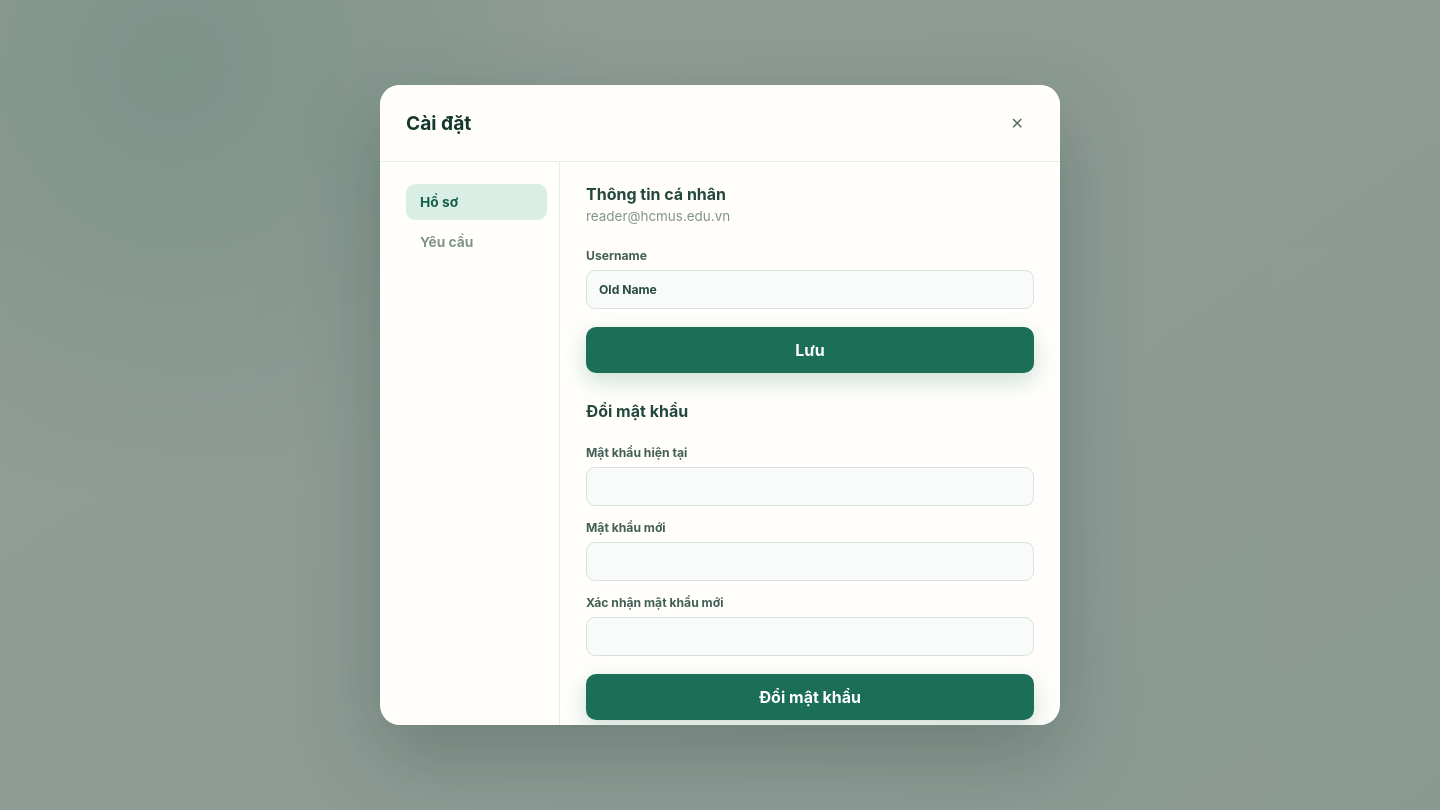
Test: SettingsModal › shows the "request to become editor" button for a reader with no pending request
The width and height of the screenshot is (1440, 810).
Expected: the field showing "Old Name" is shown, [586,270,1034,309]
Click the button "Yêu cầu". click: (476, 242)
box: [406,224,547,260]
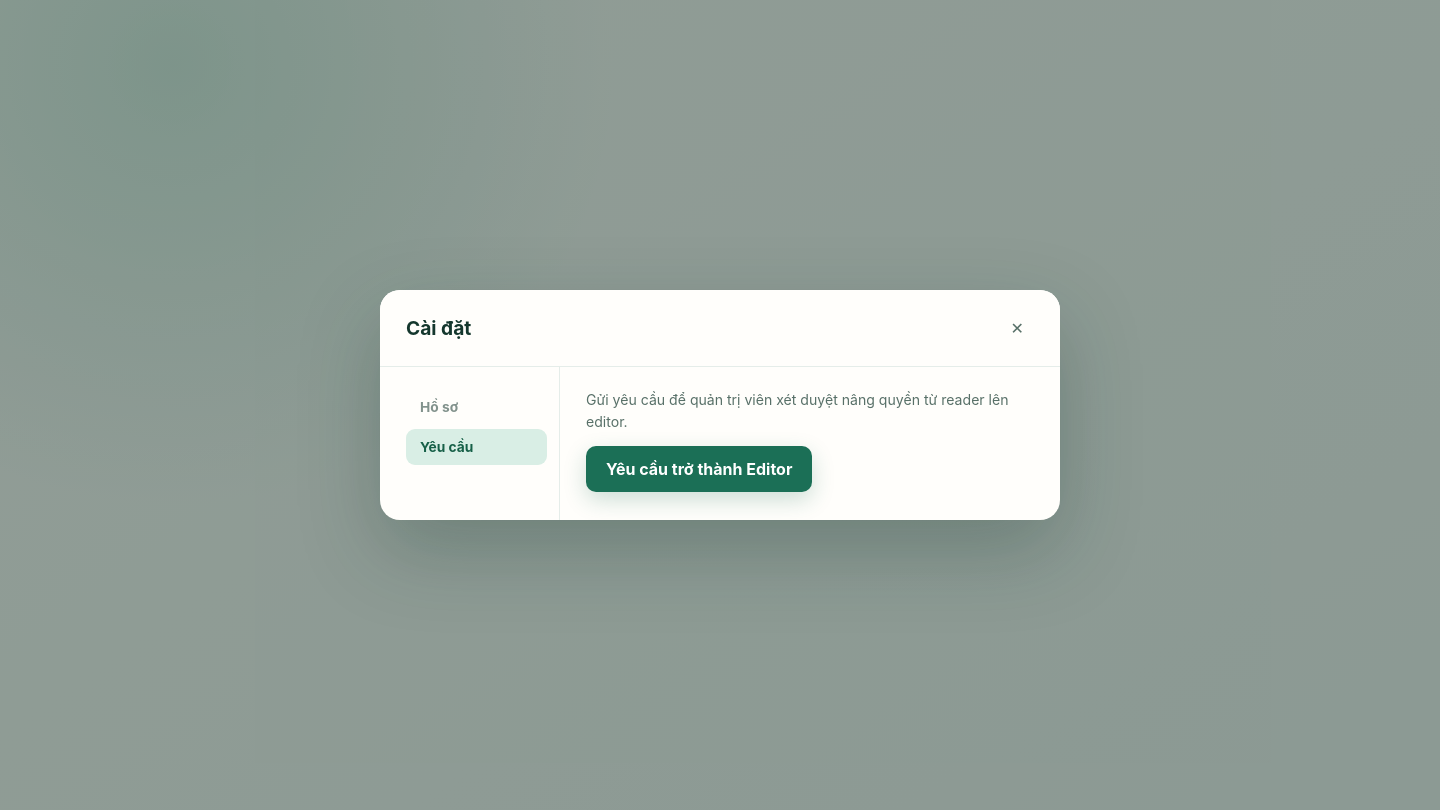
Expected: the button "Yêu cầu trở thành Editor" is shown, [586,446,812,492]
